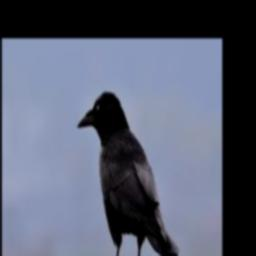Crow: (77, 90, 179, 256)
